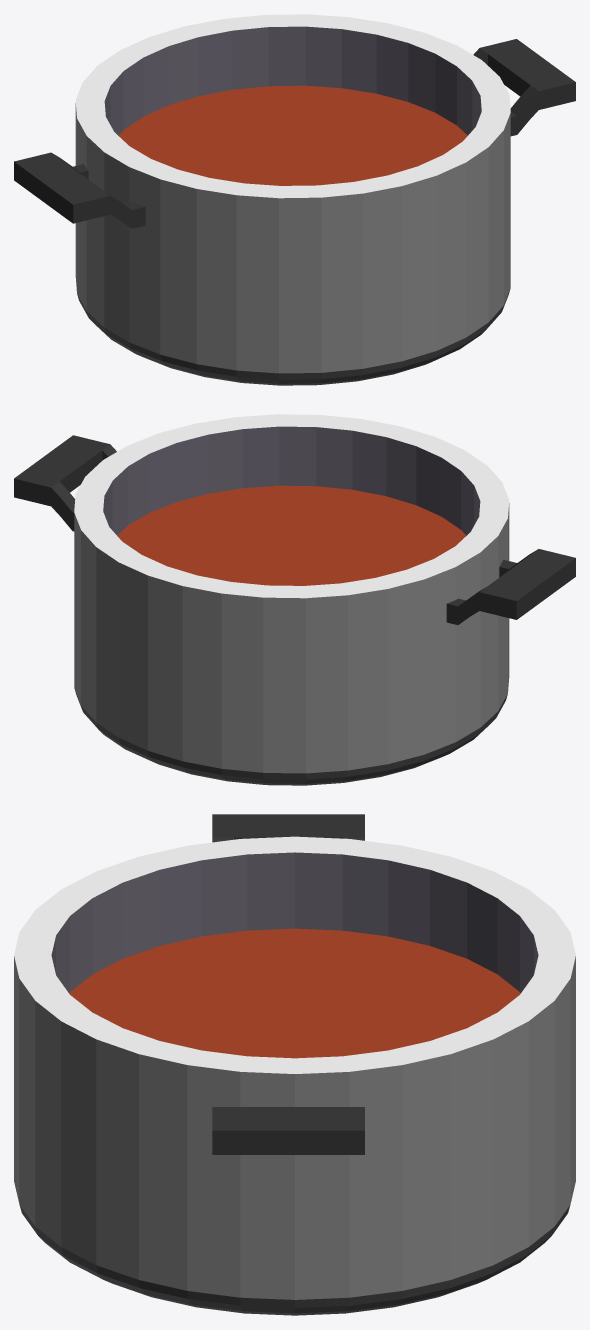
File: Res01_CookingPan1.fbx
3 views of the same model, one above another, from view 1: azimuth 30°, elevation 25°; view 2: azimuth 150°, elevation 25°; view 3: azimuth 270°, elevation 25° (orthographic). The views are drawn at different scales.
Parts seen in each view (by area): view 1: Res01_CookingPan1; view 2: Res01_CookingPan1; view 3: Res01_CookingPan1.
Part boxes in pixels (x1,y1,x2,y2): Res01_CookingPan1: (14, 14, 575, 385); Res01_CookingPan1: (14, 414, 575, 785); Res01_CookingPan1: (14, 814, 575, 1315).
Size of the model in its own units: 144 by 55.47 by 108.
